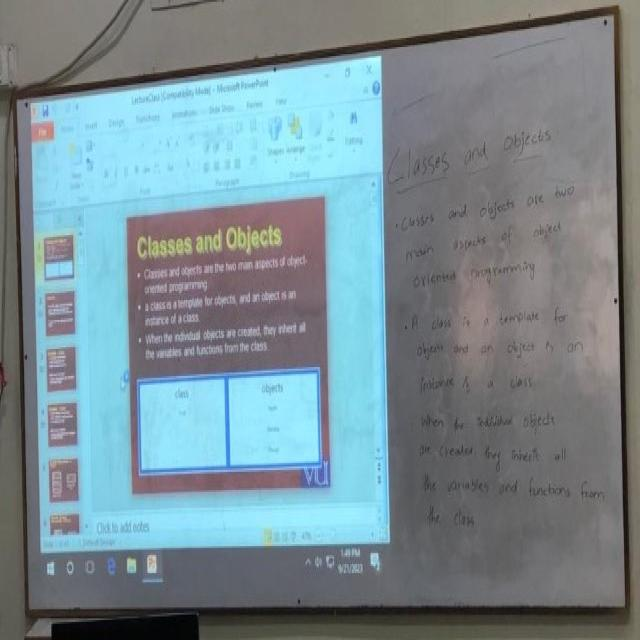Slide: (31, 53, 395, 591)
White-board: (14, 11, 627, 617)
